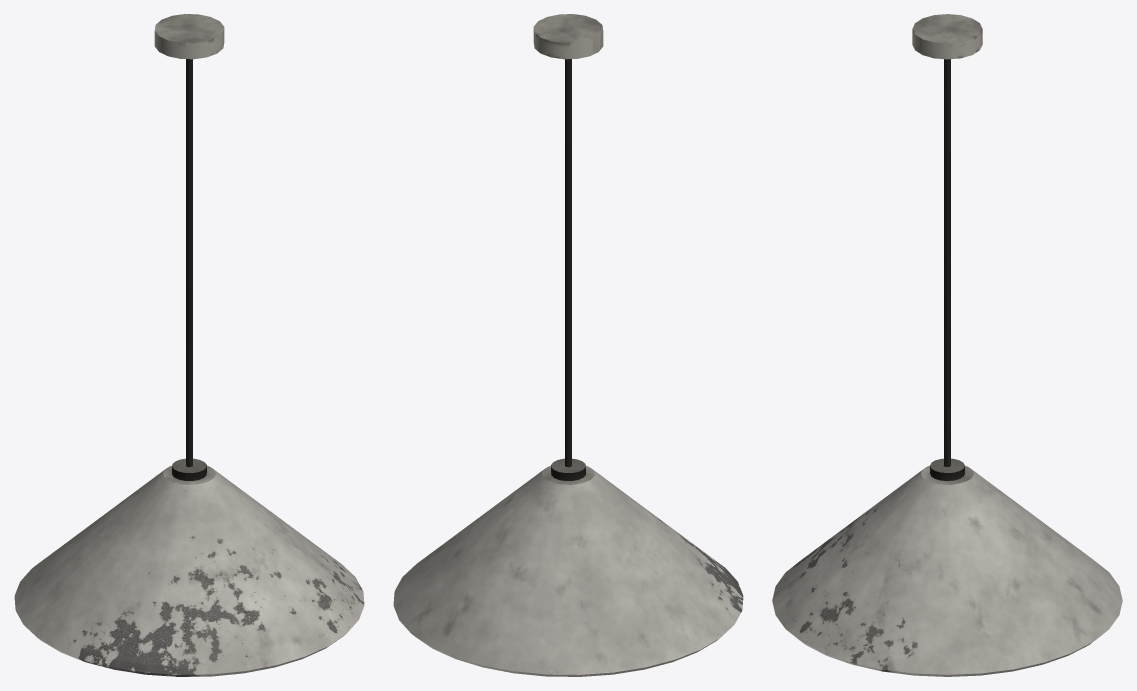
Rendered from SM_CeilingLamp_Shade.fbx.
3 renders of one model, left to right at view 1: azimuth 30°, elevation 25°; view 2: azimuth 150°, elevation 25°; view 3: azimuth 270°, elevation 25°, orthographic.
Parts seen in each view (by area): view 1: SM_CeilingLamp_Shade; view 2: SM_CeilingLamp_Shade; view 3: SM_CeilingLamp_Shade.
Part boxes in pixels (box(x1,y1,x2,y2)): SM_CeilingLamp_Shade: box(14, 14, 364, 676); SM_CeilingLamp_Shade: box(393, 14, 743, 676); SM_CeilingLamp_Shade: box(772, 14, 1122, 676).
Size of the model in its own units: 0.4 by 0.725 by 0.4.
Materials: 2 (1 with a texture image).
